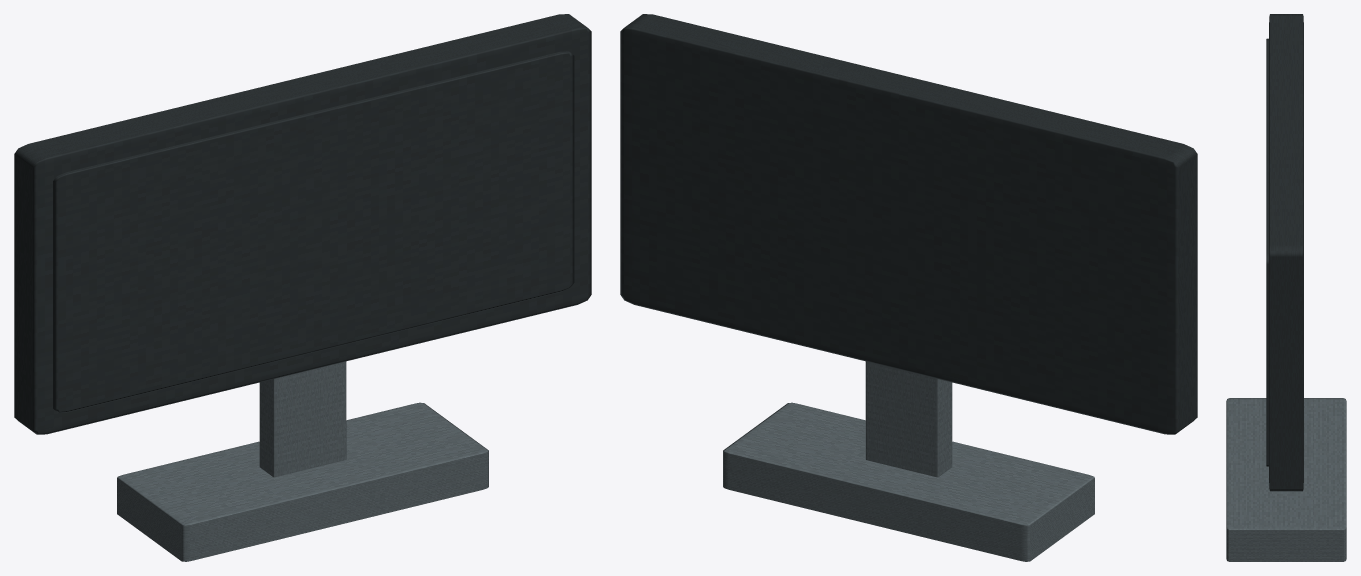
File: display.glb
3 views of the same model, side by side, from view 1: azimuth 30°, elevation 25°; view 2: azimuth 150°, elevation 25°; view 3: azimuth 270°, elevation 25° (orthographic). The views are drawn at different scales.
Parts seen in each view (by area): view 1: screen, bezel, foot, neck; view 2: bezel, foot, neck; view 3: bezel, foot, screen.
Part boxes in pixels (bbox=[...]): screen: bbox=[53, 51, 574, 412]; bezel: bbox=[14, 14, 591, 434]; foot: bbox=[117, 402, 488, 561]; neck: bbox=[259, 361, 346, 477]; bezel: bbox=[620, 14, 1197, 434]; foot: bbox=[723, 402, 1094, 561]; neck: bbox=[865, 361, 952, 477]; bezel: bbox=[1269, 14, 1303, 491]; foot: bbox=[1226, 398, 1346, 561]; screen: bbox=[1266, 38, 1268, 466].
Bounding box in the file's own units: 0.53 × 0.3762 × 0.1122.
2 materials, 2 textured.
